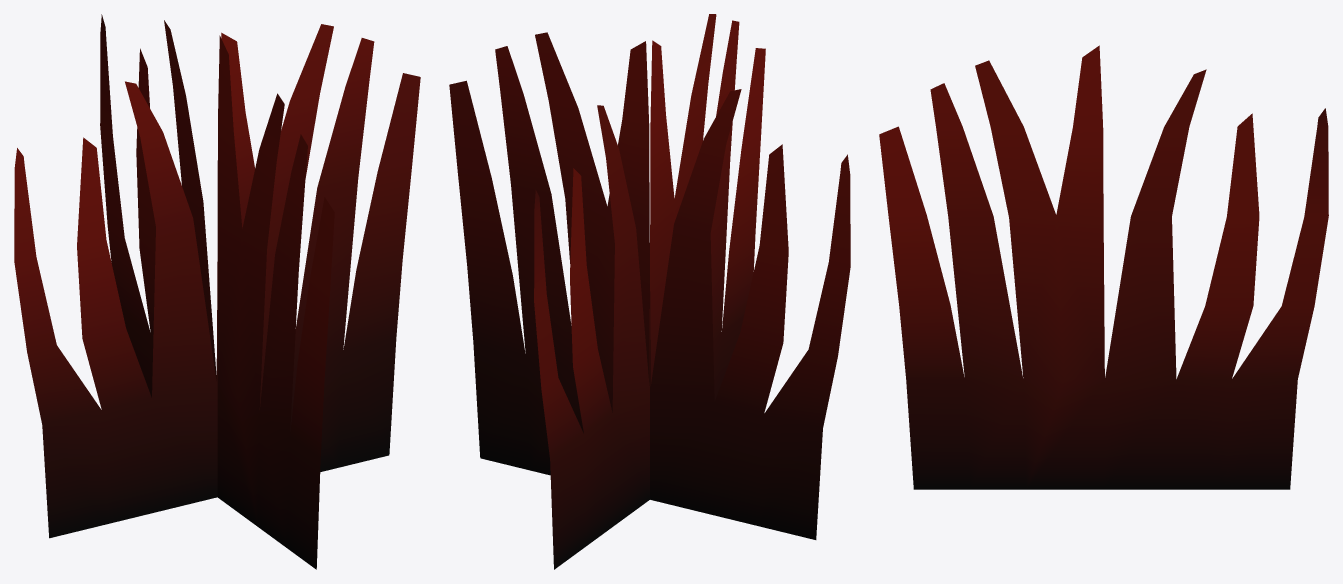
File: MAX_Grass_04 1.fbx
3 views of the same model, side by side, from view 1: azimuth 30°, elevation 25°; view 2: azimuth 150°, elevation 25°; view 3: azimuth 270°, elevation 25° (orthographic). The views are drawn at different scales.
Visible parts, largest first — view 1: Plane009; view 2: Plane009; view 3: Plane009.
Part boxes in pixels (x1,y1,x2,y2): Plane009: (14,14,420,569); Plane009: (449,14,850,569); Plane009: (879,45,1328,489).
Bounding box in the file's own units: 54.53 × 59.45 × 54.53.
